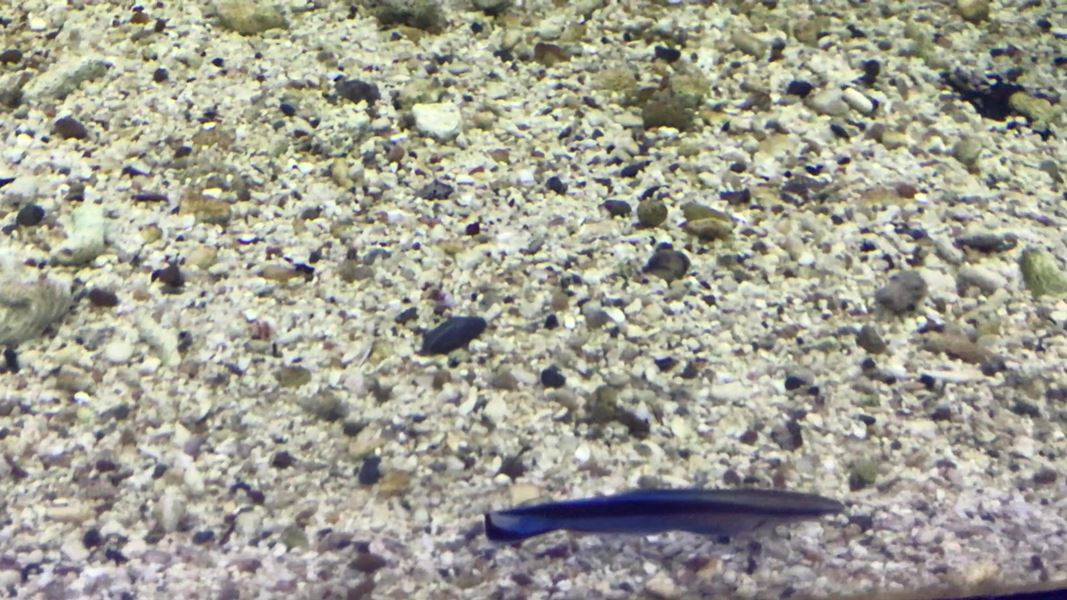Bluesteak cleaner wrasse: (474, 479, 850, 547)
